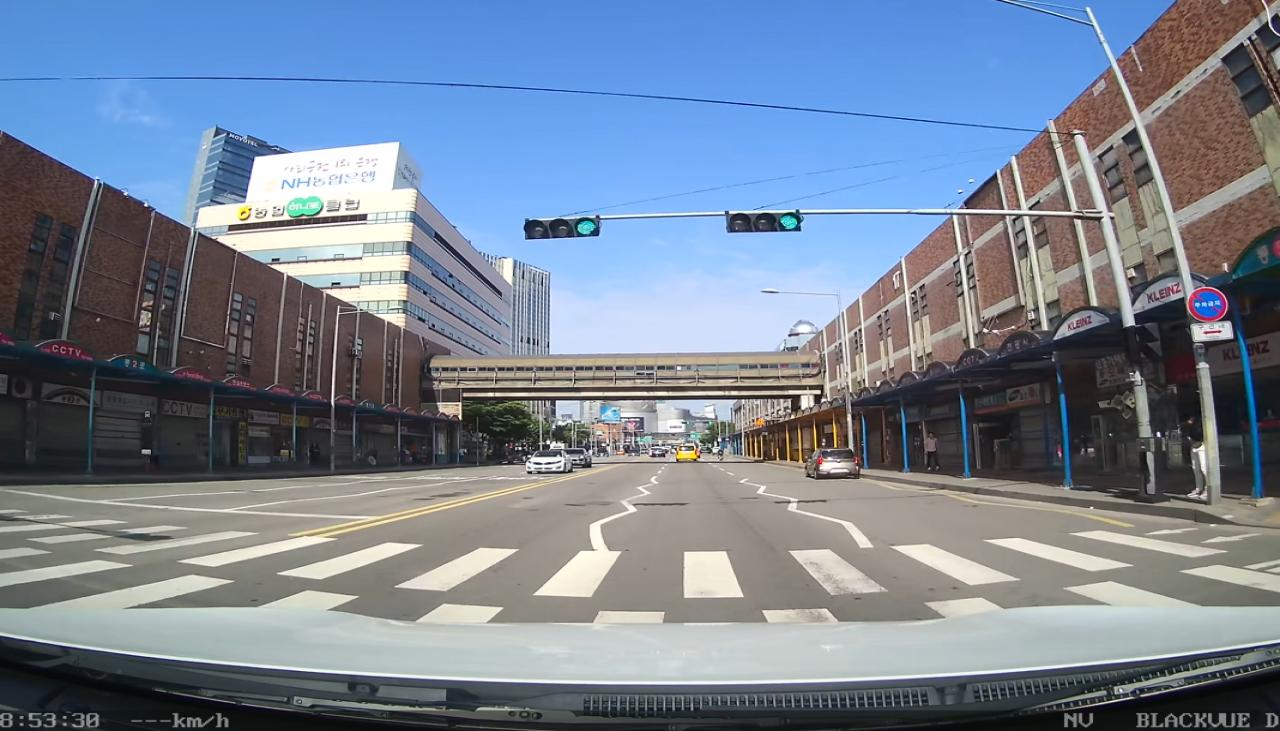Green Light: (777, 211, 801, 230), (574, 218, 598, 236)
